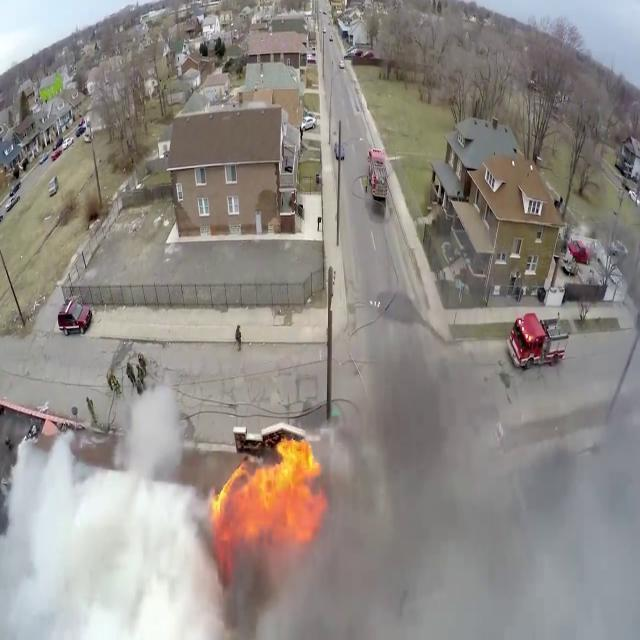Fire: (209, 428, 324, 548)
Smoke: (291, 290, 640, 640), (0, 362, 265, 640)
